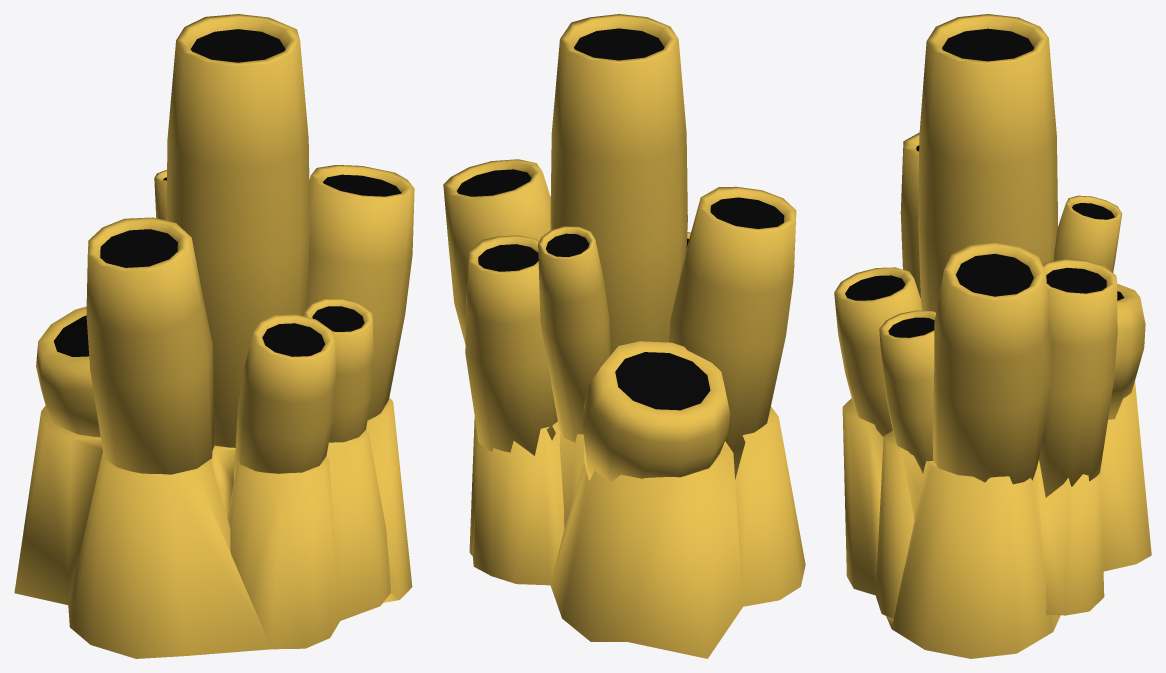
Rendered from Tubecoral02.fbx.
The picture shows the model from 3 angles, left to right: view 1: azimuth 30°, elevation 25°; view 2: azimuth 150°, elevation 25°; view 3: azimuth 270°, elevation 25°; orthographic projection. The views are drawn at different scales.
Parts seen in each view (by area): view 1: Cube.001, Top, Top.006, Top.002, Top.001, Top.004, Top.007, Top.005; view 2: Cube.001, Top, Top.006, Top.007, Top.003, Top.005, Top.002; view 3: Cube.001, Top, Top.002, Top.003, Top.001, Top.004, Top.005, Top.007, Top.006.
Part boxes in pixels (left/top/right/bottom): Cube.001: left=14, top=398, right=412, bottom=658; Top: left=166, top=14, right=309, bottom=447; Top.006: left=86, top=217, right=214, bottom=474; Top.002: left=307, top=165, right=414, bottom=420; Top.001: left=233, top=314, right=336, bottom=482; Top.004: left=304, top=298, right=373, bottom=442; Top.007: left=36, top=306, right=100, bottom=437; Top.005: left=154, top=170, right=166, bottom=220; Cube.001: left=469, top=406, right=805, bottom=658; Top: left=550, top=14, right=687, bottom=354; Top.006: left=669, top=186, right=796, bottom=479; Top.007: left=582, top=341, right=730, bottom=482; Top.003: left=465, top=235, right=557, bottom=455; Top.005: left=538, top=226, right=610, bottom=442; Top.002: left=443, top=159, right=550, bottom=344; Cube.001: left=842, top=381, right=1151, bottom=658; Top: left=918, top=14, right=1057, bottom=312; Top.002: left=932, top=242, right=1052, bottom=484; Top.003: left=1039, top=259, right=1117, bottom=497; Top.001: left=834, top=267, right=922, bottom=436; Top.004: left=879, top=310, right=935, bottom=473; Top.005: left=1053, top=195, right=1122, bottom=272; Top.007: left=1108, top=284, right=1145, bottom=419; Top.006: left=900, top=132, right=920, bottom=298.
Bounding box in the file's own units: 31.8 × 50.1 × 26.3.
